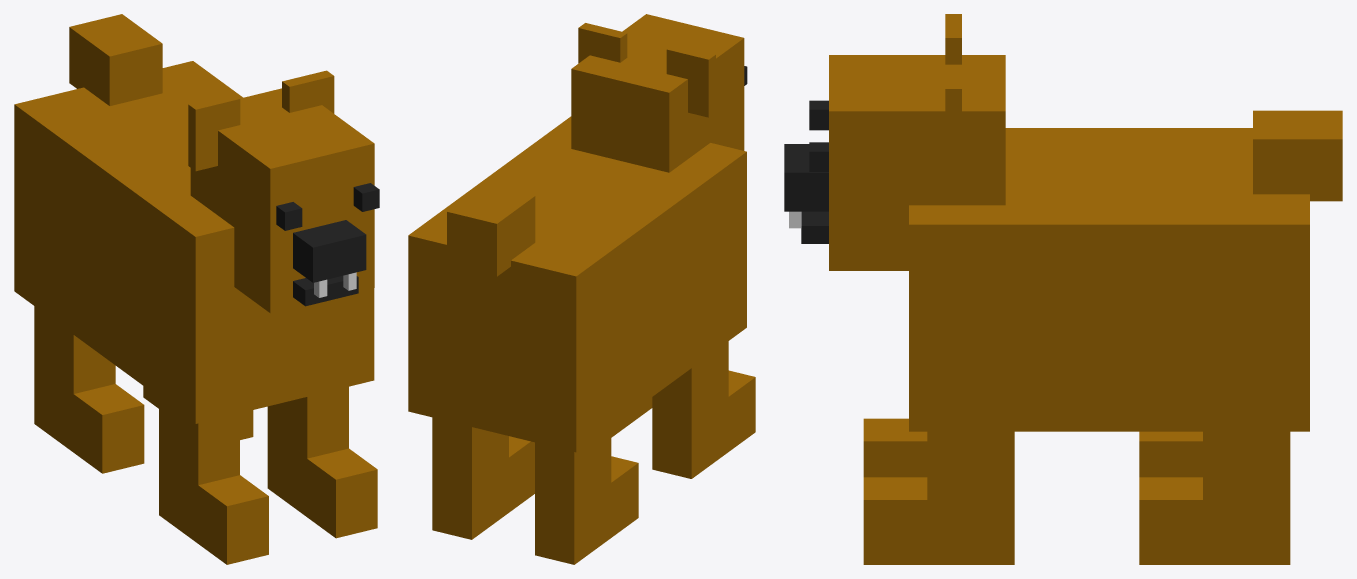
File: Bulldog.fbx
3 renders of one model, left to right at view 1: azimuth 30°, elevation 25°; view 2: azimuth 150°, elevation 25°; view 3: azimuth 270°, elevation 25°, orthographic. The views are drawn at different scales.
Parts seen in each view (by area): view 1: bulldog; view 2: bulldog; view 3: bulldog.
Part boxes in pixels (x1,y1,x2,y2): bulldog: [14, 14, 379, 564]; bulldog: [408, 14, 755, 564]; bulldog: [784, 14, 1342, 564].
Size of the model in its own units: 34.73 by 79.3 by 84.93.
